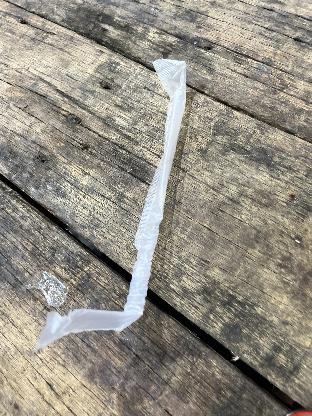Others: (40, 55, 188, 349), (36, 266, 74, 312)
